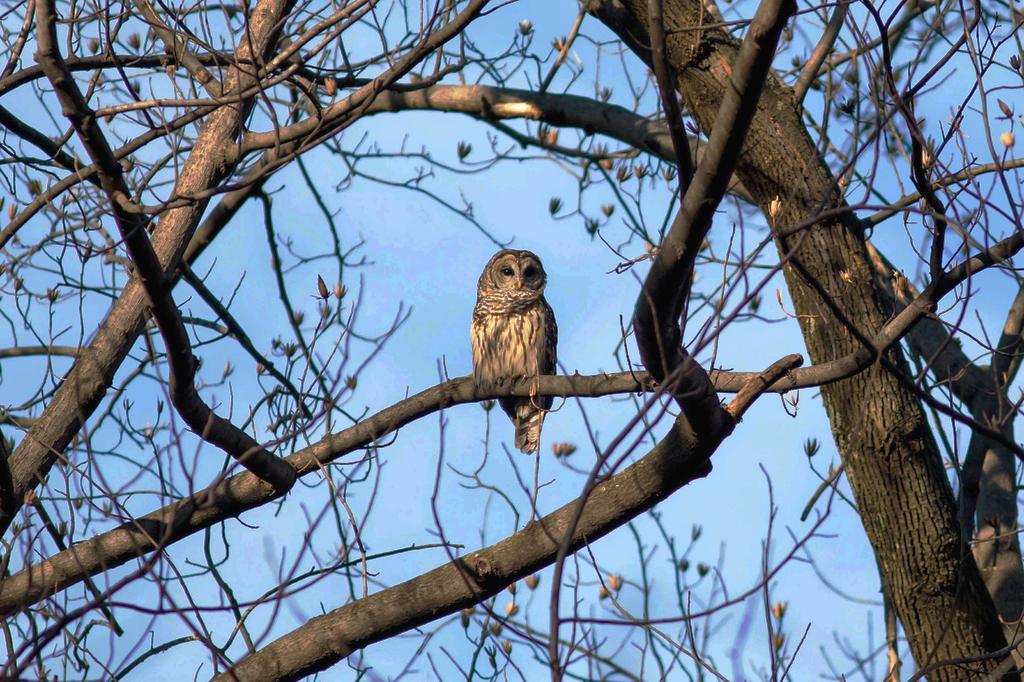Owl: (471, 246, 561, 454)
